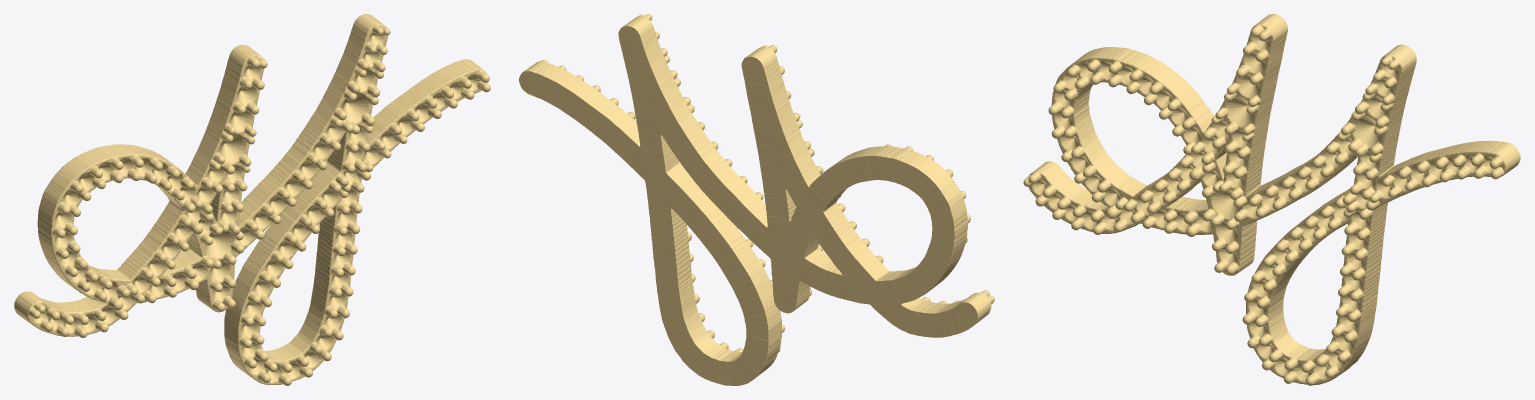
Rendered from script-pendant.glb.
3 renders of one model, left to right at view 1: azimuth 30°, elevation 25°; view 2: azimuth 150°, elevation 25°; view 3: azimuth 330°, elevation 25°, orthographic. The views are drawn at different scales.
Visible parts, largest first — view 1: Metal Yellow Gold; view 2: Metal Yellow Gold; view 3: Metal Yellow Gold.
Part boxes in pixels (x1,y1,x2,y2): Metal Yellow Gold: (14,14,490,385); Metal Yellow Gold: (519,14,994,385); Metal Yellow Gold: (1023,14,1520,385).
Bounding box in the file's own units: 25.94 × 18.14 × 2.
